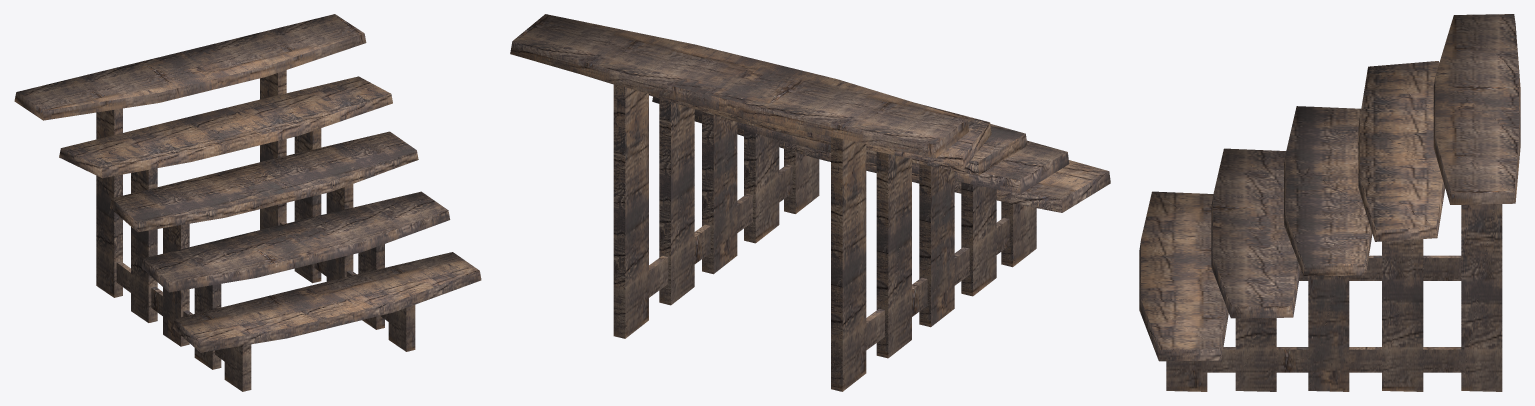
Rendered from cabinSteps_01_LOD2.FBX.
The picture shows the model from 3 angles, left to right: view 1: azimuth 30°, elevation 25°; view 2: azimuth 150°, elevation 25°; view 3: azimuth 270°, elevation 25°; orthographic projection. The views are drawn at different scales.
Visible parts, largest first — view 1: cabinSteps_01_LOD2; view 2: cabinSteps_01_LOD2; view 3: cabinSteps_01_LOD2.
Part boxes in pixels (<box>): cabinSteps_01_LOD2: <box>14,14,481,391</box>; cabinSteps_01_LOD2: <box>510,14,1110,391</box>; cabinSteps_01_LOD2: <box>1139,14,1520,391</box>.
Size of the model in its own units: 8.49 by 5.23 by 7.54.
1 material, 1 textured.
